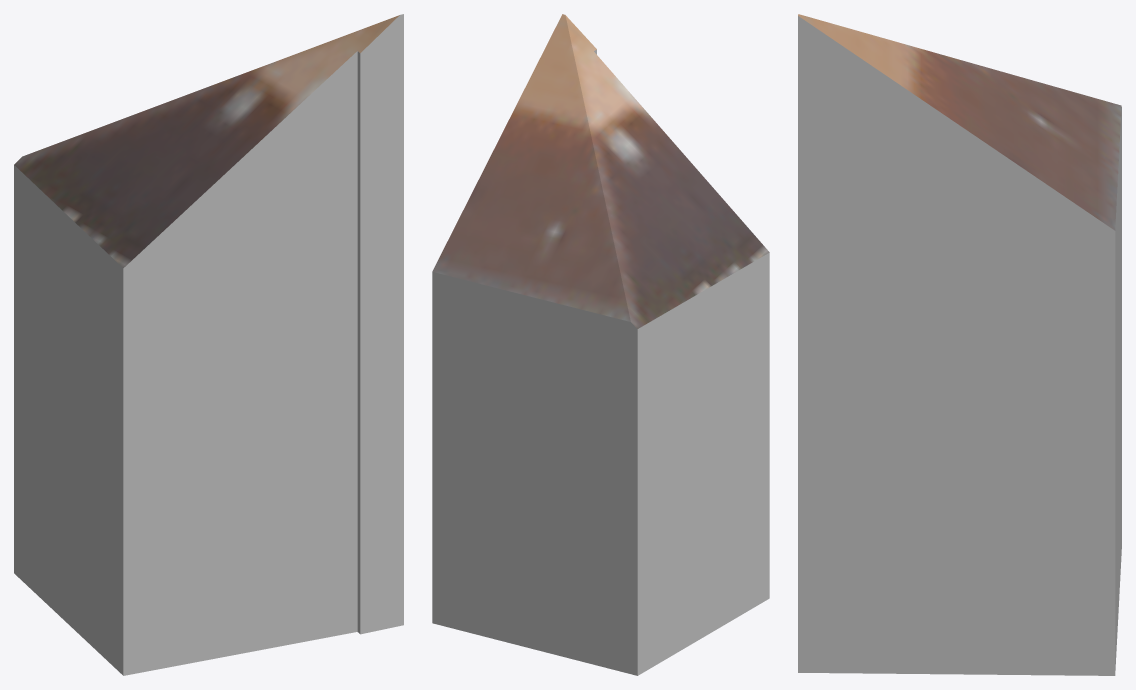
File: DEBW_0010007TxgO.gltf
The picture shows the model from 3 angles, left to right: view 1: azimuth 30°, elevation 25°; view 2: azimuth 150°, elevation 25°; view 3: azimuth 270°, elevation 25°; orthographic projection. The views are drawn at different scales.
Parts seen in each view (by area): view 1: Z_UP; view 2: Z_UP; view 3: Z_UP.
Part boxes in pixels (x1,y1,x2,y2): Z_UP: [14, 14, 403, 675]; Z_UP: [432, 14, 769, 675]; Z_UP: [798, 14, 1121, 675].
Bounding box in the file's own units: 9.41 × 20.48 × 9.15.
2 materials, 1 textured.
